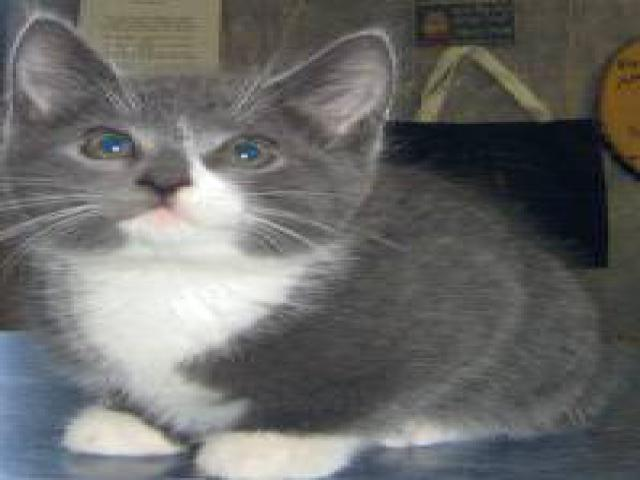cat: (7, 11, 619, 471)
